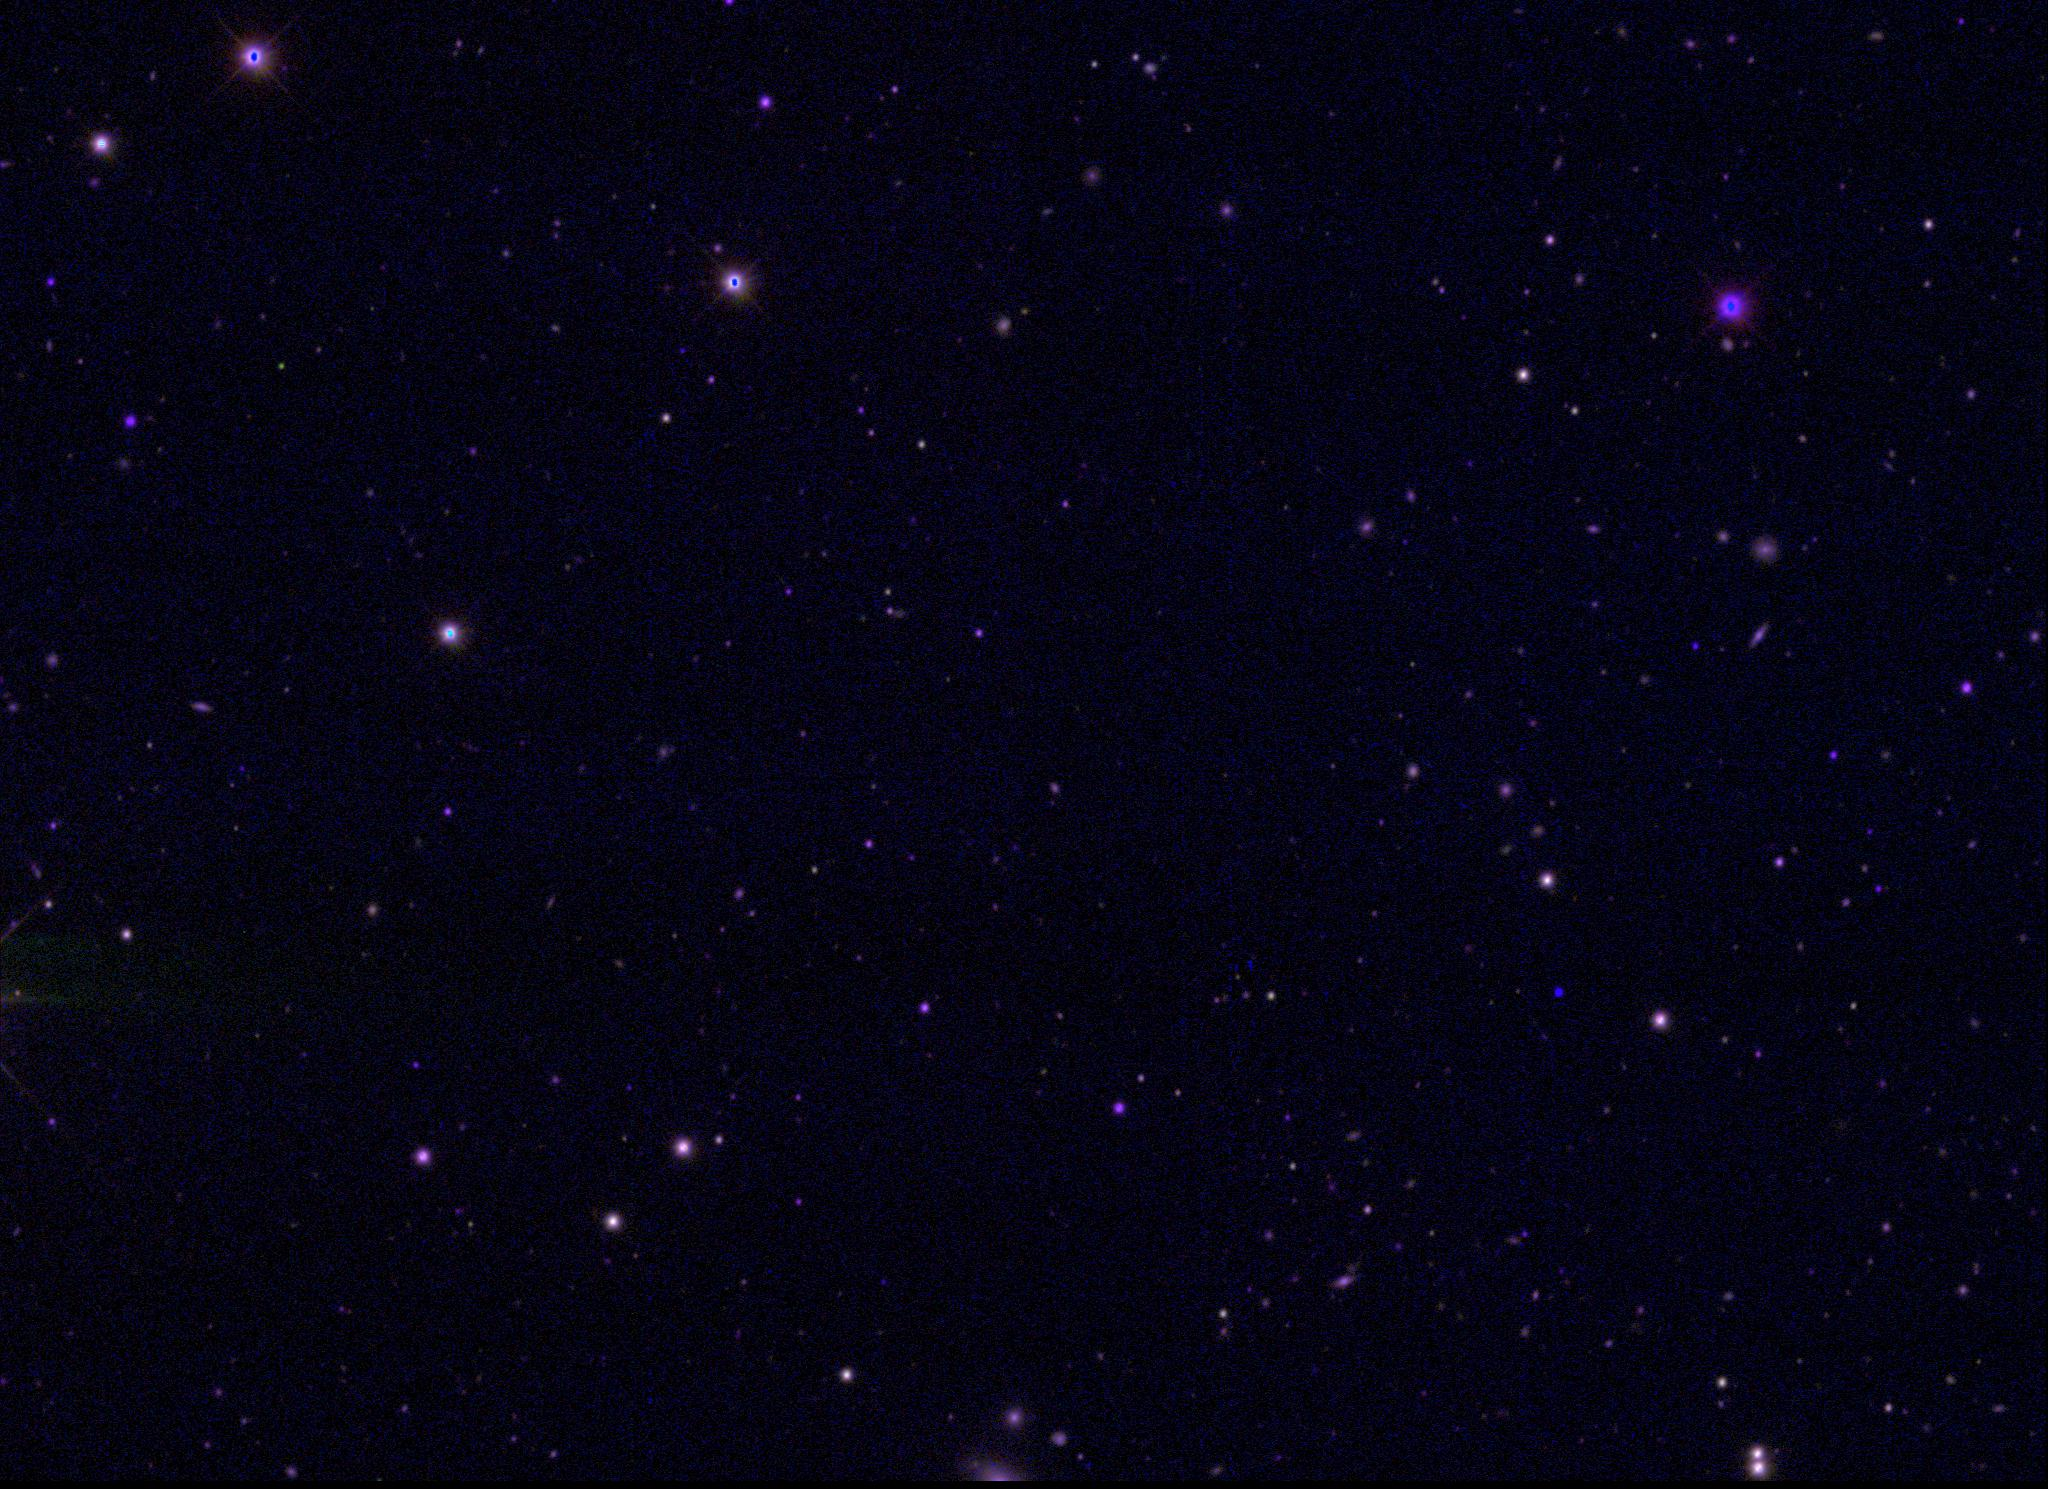L: (1553, 988, 1566, 1002)
